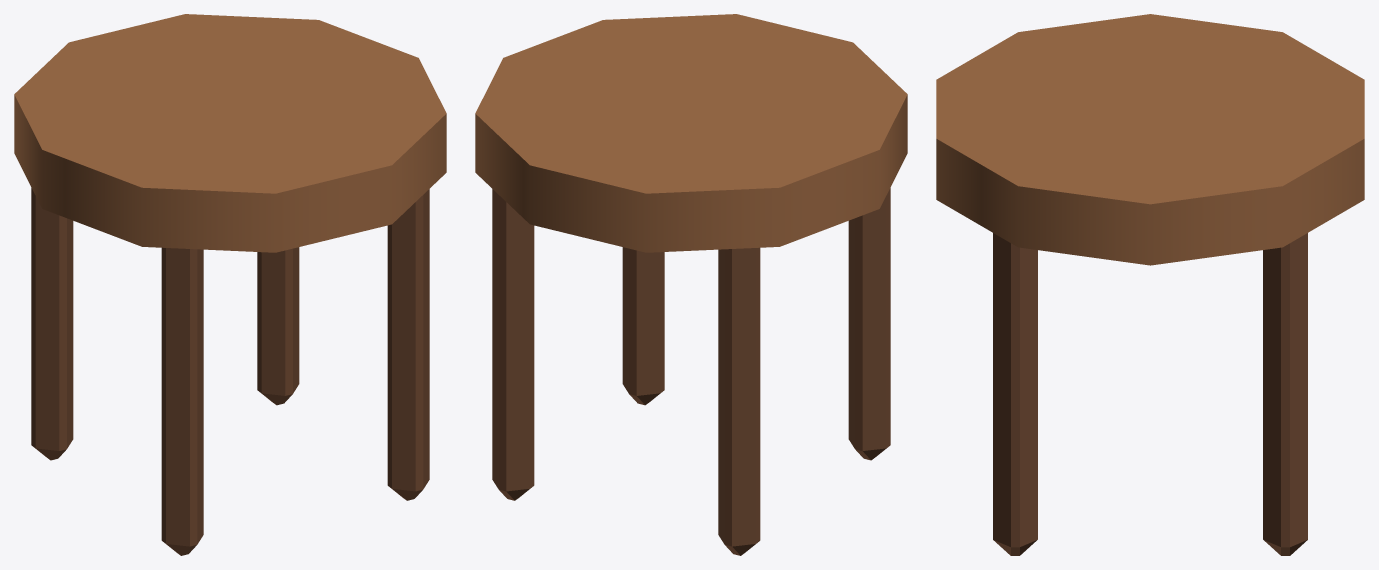
Rendered from stool.glb.
3 renders of one model, left to right at view 1: azimuth 30°, elevation 25°; view 2: azimuth 150°, elevation 25°; view 3: azimuth 270°, elevation 25°, orthographic. The views are drawn at different scales.
Parts seen in each view (by area): view 1: body; view 2: body; view 3: body.
Part boxes in pixels (<box>): body: <box>14,14,446,555</box>; body: <box>475,14,907,555</box>; body: <box>936,14,1364,555</box>.
Bounding box in the file's own units: 0.4 × 0.38 × 0.3804.
